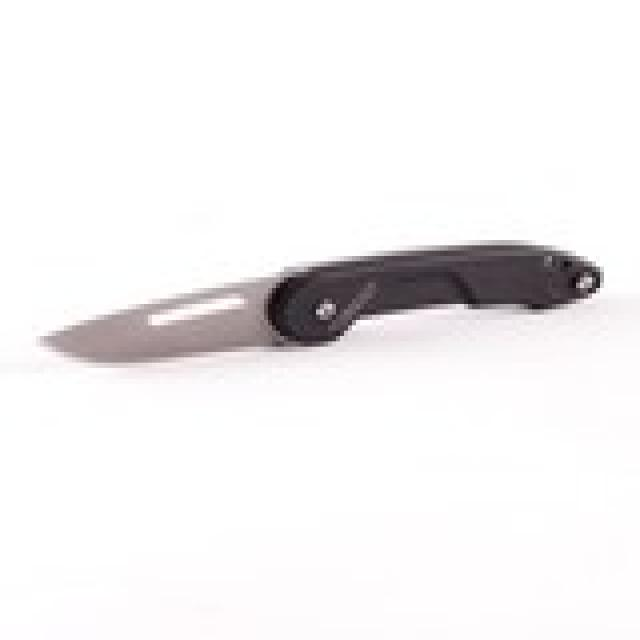Knife: (22, 238, 610, 368)
